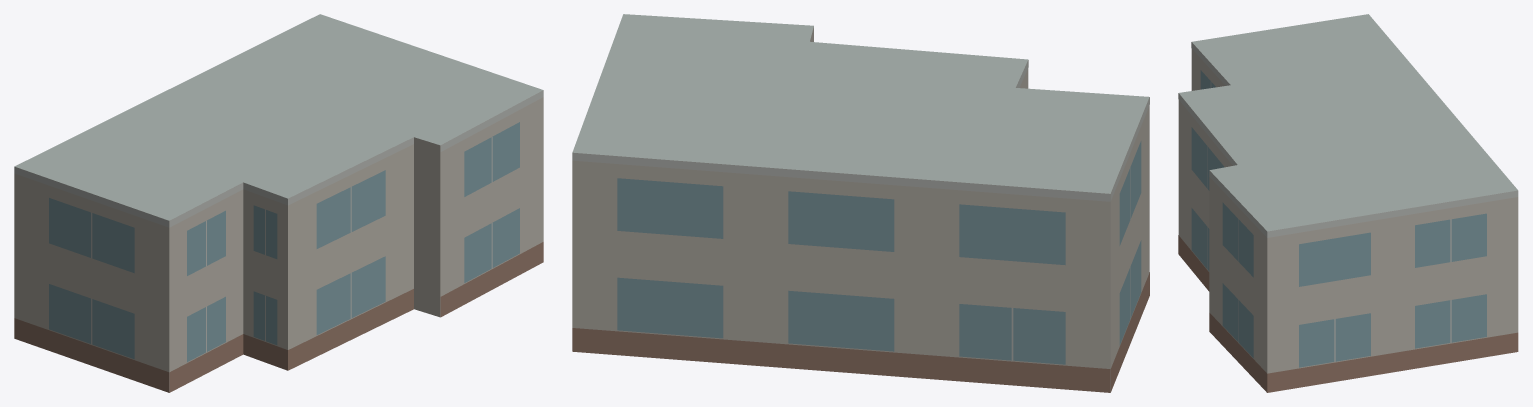
File: survey-upis-32843098.glb
3 views of the same model, side by side, from view 1: azimuth 30°, elevation 25°; view 2: azimuth 150°, elevation 25°; view 3: azimuth 270°, elevation 25° (orthographic). The views are drawn at different scales.
Visible parts, largest first — view 1: survey-upis-32843098.tmp; view 2: survey-upis-32843098.tmp; view 3: survey-upis-32843098.tmp.
Part boxes in pixels (x1=…): survey-upis-32843098.tmp: x1=14, y1=14, x2=543, y2=392; survey-upis-32843098.tmp: x1=572, y1=14, x2=1149, y2=392; survey-upis-32843098.tmp: x1=1178, y1=14, x2=1518, y2=392.
Size of the model in its own units: 17.65 by 6.1 by 11.65.
